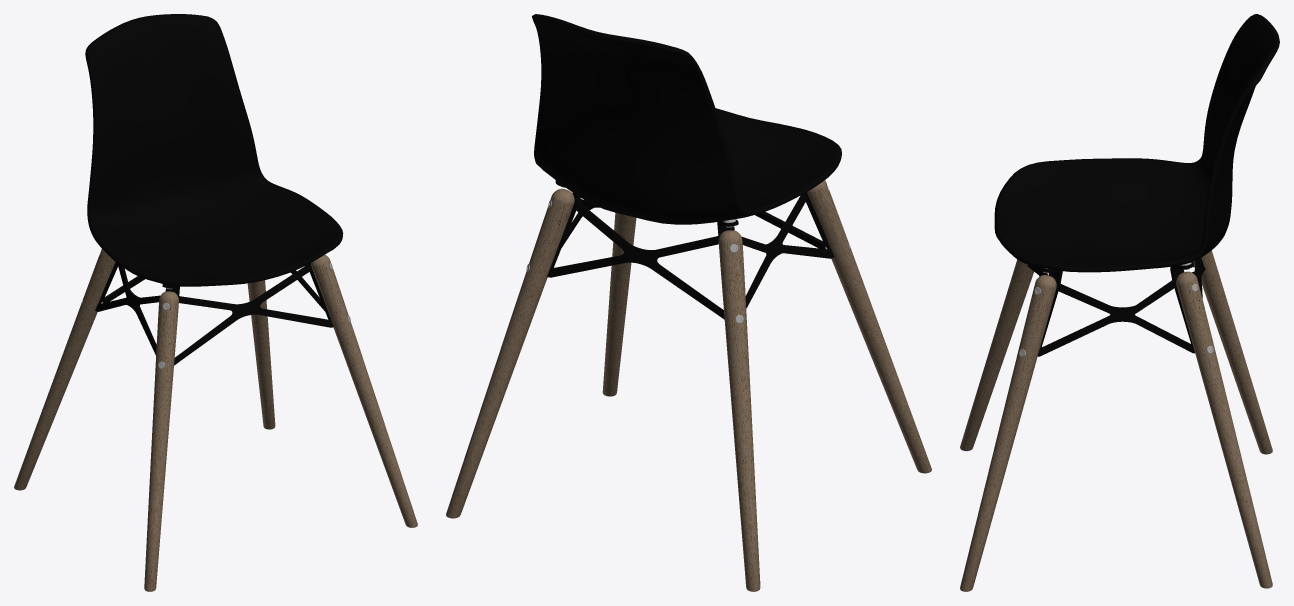
The model's file is Chair.fbx.
3 views of the same model, side by side, from view 1: azimuth 30°, elevation 25°; view 2: azimuth 150°, elevation 25°; view 3: azimuth 270°, elevation 25° (orthographic). The views are drawn at different scales.
Visible parts, largest first — view 1: Chair; view 2: Chair; view 3: Chair.
Part boxes in pixels (bbox=[...]): Chair: bbox=[14, 14, 417, 591]; Chair: bbox=[446, 14, 931, 591]; Chair: bbox=[960, 14, 1279, 591].
Size of the model in its own units: 203 by 312 by 188.
Materials: 1 (1 with a texture image).
